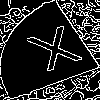X: (25, 25, 91, 81)
